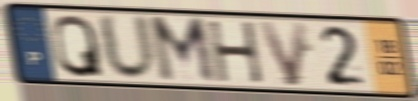2: (318, 24, 368, 89)
H: (204, 20, 267, 86)
M: (146, 14, 220, 86)
Q: (51, 12, 106, 80)
U: (94, 11, 160, 84)
V: (255, 19, 311, 89)
